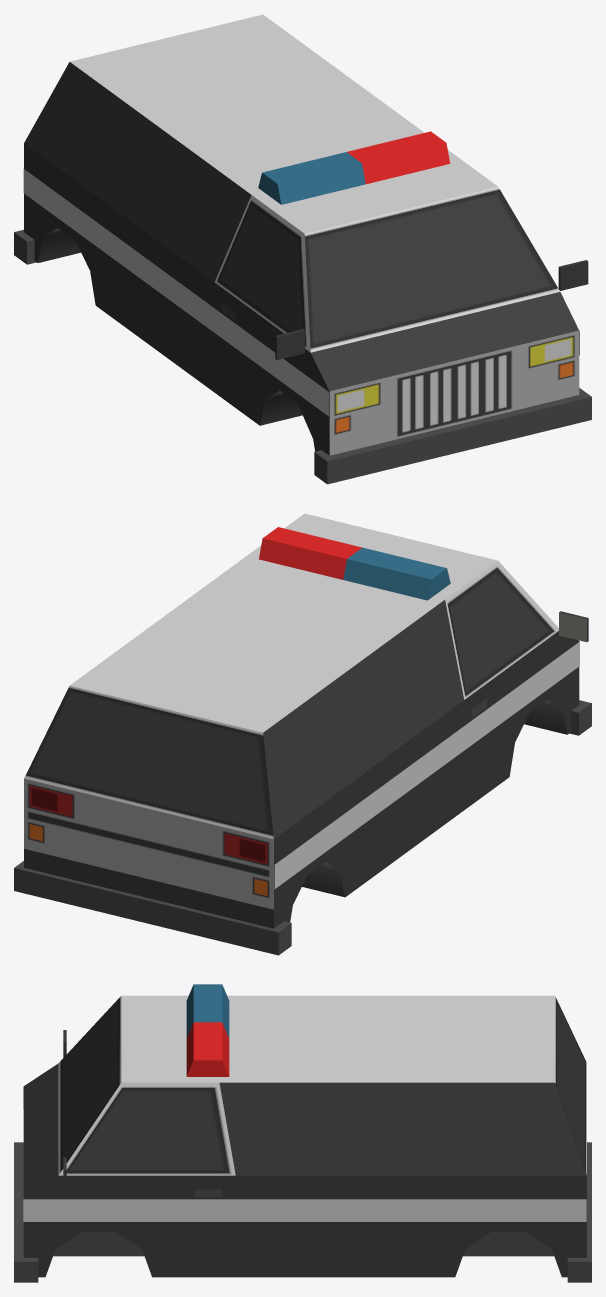
File: car 34.FBX
The picture shows the model from 3 angles, top to bottom: view 1: azimuth 30°, elevation 25°; view 2: azimuth 150°, elevation 25°; view 3: azimuth 270°, elevation 25°; orthographic projection. The views are drawn at different scales.
Visible parts, largest first — view 1: Box525; view 2: Box525; view 3: Box525.
Part boxes in pixels (x1,y1,x2,y2): Box525: (14, 14, 591, 484); Box525: (14, 513, 591, 955); Box525: (14, 984, 591, 1282).
Bounding box in the file's own units: 3.08 × 2.06 × 5.38.
